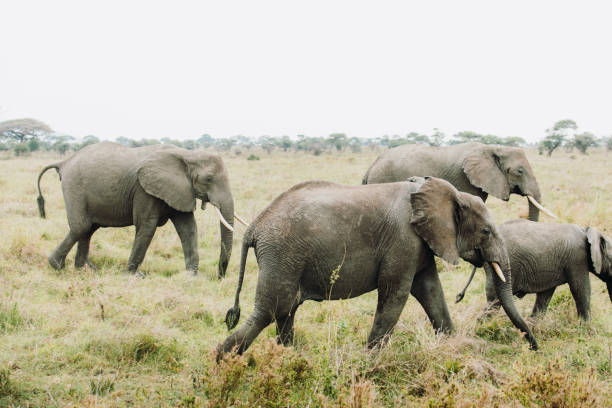africanelephant: (401, 186, 525, 293), (188, 152, 259, 262)
